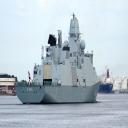Fragata: (15, 10, 103, 107)
